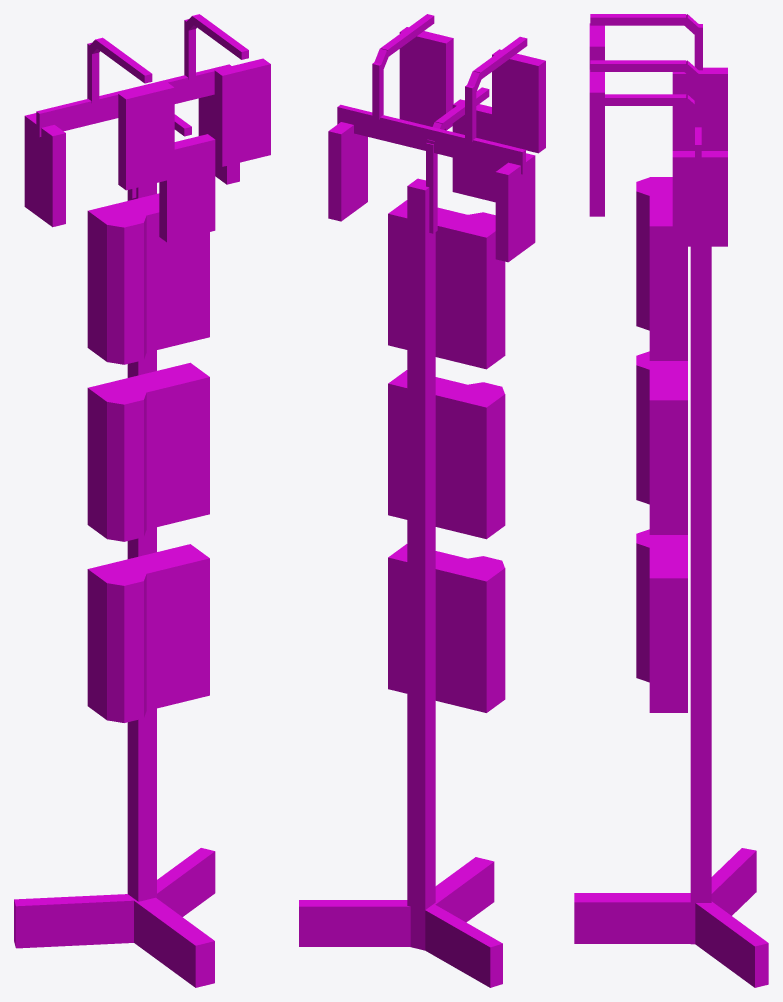
The model's file is SM_MachineECollider.fbx.
The picture shows the model from 3 angles, left to right: view 1: azimuth 30°, elevation 25°; view 2: azimuth 150°, elevation 25°; view 3: azimuth 270°, elevation 25°; orthographic projection. The views are drawn at different scales.
Parts seen in each view (by area): view 1: MachineECollision; view 2: MachineECollision; view 3: MachineECollision.
Boxes of the visible parts, left/top/right/bottom form: MachineECollision: left=14, top=14, right=270, bottom=987; MachineECollision: left=299, top=14, right=545, bottom=987; MachineECollision: left=574, top=14, right=768, bottom=987.
Size of the model in its own units: 41.85 by 178 by 34.89.
